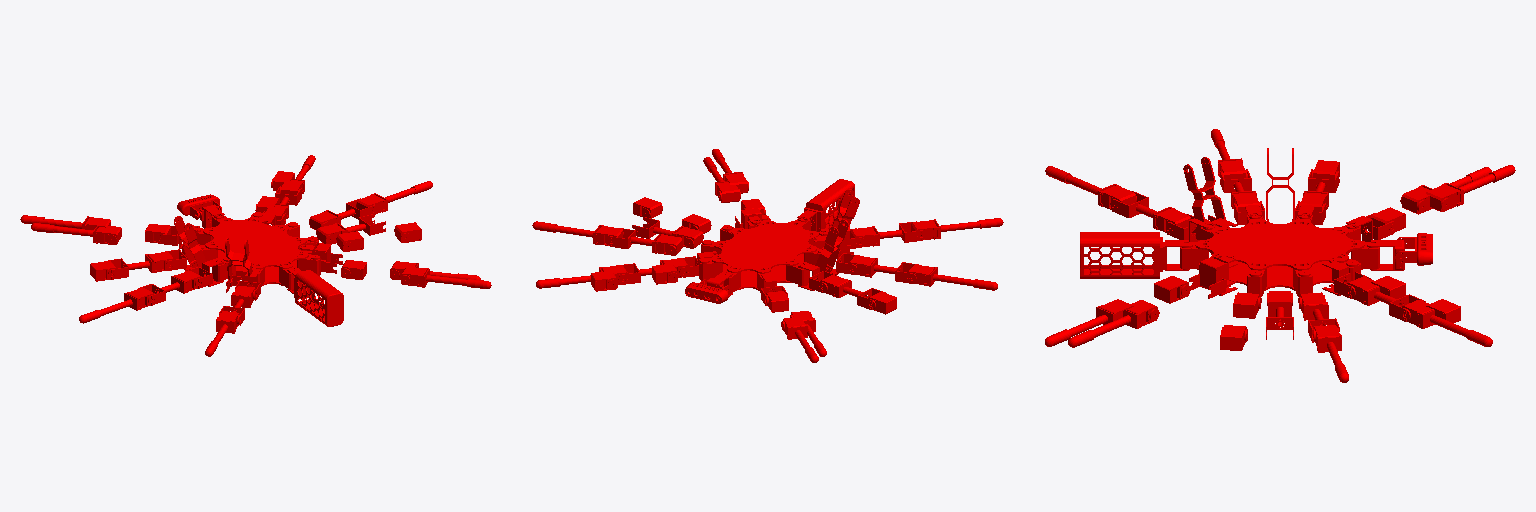
--- Facts derived from the render (not from the file) ---
The picture shows the robot from 3 angles, left to right: view 1: azimuth 30°, elevation 25°; view 2: azimuth 150°, elevation 25°; view 3: azimuth 270°, elevation 25°; orthographic projection.
Model nightmare_v2 with 54 links and 53 joints (27 continuous, 26 fixed), rooted at base_link, posed all joints at 0.
Links seen in each view (by area): view 1: base_link, Component62_1, leg_6_tibia_1, leg_2_femur_1, leg_5_femur_1, head_link_1, leg_1_tibia_1, leg_7_tibia_1, leg_4_femur_1, leg_6_femur_1; view 2: base_link, Component62_1, leg_2_femur_1, leg_5_femur_1, head_link_1, leg_2_tibia_1, leg_4_tibia_1, leg_1_femur_1, leg_4_femur_1, leg_7_tibia_1, leg_7_femur_1, leg_8_femur_1 (+3 smaller); view 3: base_link, Component62_1, leg_2_tibia_1, leg_4_tibia_1, leg_4_femur_1, leg_1_femur_1, leg_2_femur_1, leg_6_tibia_1, head_link_1, leg_3_coxa_1, leg_1_tibia_1, leg_1_motor__1__1 (+17 smaller).
Link boxes in pixels (x1,y1,x2,y2): base_link: (203,217,308,285); Component62_1: (287,267,343,326); leg_6_tibia_1: (31,223,121,244); leg_2_femur_1: (316,214,385,244); leg_5_femur_1: (174,216,205,274); head_link_1: (177,194,221,219); leg_1_tibia_1: (418,268,491,288); leg_7_tibia_1: (79,292,140,323); leg_4_femur_1: (225,238,252,286); leg_6_femur_1: (108,254,156,279); base_link: (712,220,818,290); Component62_1: (797,179,854,231); leg_2_femur_1: (632,217,703,248); leg_5_femur_1: (815,219,848,279); head_link_1: (685,279,730,303); leg_2_tibia_1: (703,157,740,202); leg_4_tibia_1: (536,265,627,288); leg_1_femur_1: (616,258,688,284); leg_4_femur_1: (832,189,859,246); leg_7_tibia_1: (924,267,997,290); leg_7_femur_1: (865,258,918,283); leg_8_femur_1: (872,221,922,246); base_link: (1195,219,1364,290); Component62_1: (1080,232,1188,278); leg_2_tibia_1: (1068,300,1159,347); leg_4_tibia_1: (1402,300,1492,346); leg_4_femur_1: (1183,157,1225,233); leg_1_femur_1: (1348,276,1425,321); leg_2_femur_1: (1266,291,1293,339); leg_6_tibia_1: (1400,167,1491,214); head_link_1: (1395,233,1432,265); leg_3_coxa_1: (1200,255,1235,290); leg_1_tibia_1: (1045,305,1117,346); leg_1_motor__1__1: (1154,276,1190,303).
Size in the robot's own frame: 0.9365 by 0.7516 by 0.1457 metres.
54 mesh visuals loaded from 54 distinct referenced files (11 binary STL, 43 ASCII STL).

The robot description file, URDF, robot "nightmare_v2":
<?xml version="1.0" ?>
<robot name="nightmare_v2">
<link name="base_link">
  <visual>
    <origin rpy="0 0 0" xyz="0 0 0"/>
    <geometry>
      <mesh filename="package://nightmare_description/meshes/base_link.stl" scale="0.001 0.001 0.001"/>
    </geometry>
    <material name="silver">
      <color rgba="1 0 0 1"/>
    </material>
  </visual>
  <collision>
    <origin rpy="0 0 0" xyz="0 0 0"/>
    <geometry>
      <mesh filename="package://nightmare_description/meshes/base_link.stl" scale="0.001 0.001 0.001"/>
    </geometry>
  </collision>
</link>
<link name="leg_8_motor_1">
  <inertial>
    <origin rpy="0 0 0" xyz="-0.020134 -0.005284999999999998 -0.017272"/>
    <mass value="0.315076"/>
    <inertia ixx="7e-05" ixy="-1.9e-05" ixz="0.000291" iyy="7e-05" iyz="-0.000292" izz="6.9e-05"/>
  </inertial>
  <visual>
    <origin rpy="0 0 0" xyz="0.039681 0.099177 -0.038"/>
    <geometry>
      <mesh filename="package://nightmare_description/meshes/leg_8_motor_1.stl" scale="0.001 0.001 0.001"/>
    </geometry>
    <material name="silver">
      <color rgba="1 0 0 1"/>
    </material>
  </visual>
  <collision>
    <origin rpy="0 0 0" xyz="0.039681 0.099177 -0.038"/>
    <geometry>
      <mesh filename="package://nightmare_description/meshes/leg_8_motor_1.stl" scale="0.001 0.001 0.001"/>
    </geometry>
  </collision>
</link>
<link name="leg_1_motor_1">
  <inertial>
    <origin rpy="0 0 0" xyz="0.020134000000000006 -0.005284999999999998 -0.017272"/>
    <mass value="0.315076"/>
    <inertia ixx="7e-05" ixy="1.9e-05" ixz="0.00111" iyy="7e-05" iyz="-0.00111" izz="6.9e-05"/>
  </inertial>
  <visual>
    <origin rpy="0 0 0" xyz="-0.04251 0.102005 -0.038"/>
    <geometry>
      <mesh filename="package://nightmare_description/meshes/leg_1_motor_1.stl" scale="0.001 0.001 0.001"/>
    </geometry>
    <material name="silver">
      <color rgba="1 0 0 1"/>
    </material>
  </visual>
  <collision>
    <origin rpy="0 0 0" xyz="-0.04251 0.102005 -0.038"/>
    <geometry>
      <mesh filename="package://nightmare_description/meshes/leg_1_motor_1.stl" scale="0.001 0.001 0.001"/>
    </geometry>
  </collision>
</link>
<link name="tail_motor_1">
  <inertial>
    <origin rpy="0 0 0" xyz="-0.0105 -0.017974000000000018 -0.017272"/>
    <mass value="0.315076"/>
    <inertia ixx="8.8e-05" ixy="-0.0" ixz="0.000893" iyy="5.1e-05" iyz="-0.000893" izz="6.9e-05"/>
  </inertial>
  <visual>
    <origin rpy="0 0 0" xyz="-0.01025 0.119 -0.038"/>
    <geometry>
      <mesh filename="package://nightmare_description/meshes/tail_motor_1.stl" scale="0.001 0.001 0.001"/>
    </geometry>
    <material name="silver">
      <color rgba="1 0 0 1"/>
    </material>
  </visual>
  <collision>
    <origin rpy="0 0 0" xyz="-0.01025 0.119 -0.038"/>
    <geometry>
      <mesh filename="package://nightmare_description/meshes/tail_motor_1.stl" scale="0.001 0.001 0.001"/>
    </geometry>
  </collision>
</link>
<link name="leg_2_motor_1">
  <inertial>
    <origin rpy="0 0 0" xyz="0.019524 0.007219000000000003 -0.017272"/>
    <mass value="0.315076"/>
    <inertia ixx="5.2e-05" ixy="6e-06" ixz="0.000876" iyy="8.7e-05" iyz="-0.000876" izz="6.9e-05"/>
  </inertial>
  <visual>
    <origin rpy="0 0 0" xyz="-0.077311 0.044552 -0.038"/>
    <geometry>
      <mesh filename="package://nightmare_description/meshes/leg_2_motor_1.stl" scale="0.001 0.001 0.001"/>
    </geometry>
    <material name="silver">
      <color rgba="1 0 0 1"/>
    </material>
  </visual>
  <collision>
    <origin rpy="0 0 0" xyz="-0.077311 0.044552 -0.038"/>
    <geometry>
      <mesh filename="package://nightmare_description/meshes/leg_2_motor_1.stl" scale="0.001 0.001 0.001"/>
    </geometry>
  </collision>
</link>
<link name="leg_3_motor_1">
  <inertial>
    <origin rpy="0 0 0" xyz="0.019524 -0.007219000000000003 -0.017272"/>
    <mass value="0.315076"/>
    <inertia ixx="5.2e-05" ixy="-6e-06" ixz="0.000389" iyy="8.7e-05" iyz="-0.000388" izz="6.9e-05"/>
  </inertial>
  <visual>
    <origin rpy="0 0 0" xyz="-0.077311 -0.044552 -0.038"/>
    <geometry>
      <mesh filename="package://nightmare_description/meshes/leg_3_motor_1.stl" scale="0.001 0.001 0.001"/>
    </geometry>
    <material name="silver">
      <color rgba="1 0 0 1"/>
    </material>
  </visual>
  <collision>
    <origin rpy="0 0 0" xyz="-0.077311 -0.044552 -0.038"/>
    <geometry>
      <mesh filename="package://nightmare_description/meshes/leg_3_motor_1.stl" scale="0.001 0.001 0.001"/>
    </geometry>
  </collision>
</link>
<link name="leg_4_motor_1">
  <inertial>
    <origin rpy="0 0 0" xyz="0.020134000000000006 0.005284999999999998 -0.017272"/>
    <mass value="0.315076"/>
    <inertia ixx="7e-05" ixy="-1.9e-05" ixz="-0.000291" iyy="7e-05" iyz="0.000292" izz="6.9e-05"/>
  </inertial>
  <visual>
    <origin rpy="0 0 0" xyz="-0.04251 -0.102005 -0.038"/>
    <geometry>
      <mesh filename="package://nightmare_description/meshes/leg_4_motor_1.stl" scale="0.001 0.001 0.001"/>
    </geometry>
    <material name="silver">
      <color rgba="1 0 0 1"/>
    </material>
  </visual>
  <collision>
    <origin rpy="0 0 0" xyz="-0.04251 -0.102005 -0.038"/>
    <geometry>
      <mesh filename="package://nightmare_description/meshes/leg_4_motor_1.stl" scale="0.001 0.001 0.001"/>
    </geometry>
  </collision>
</link>
<link name="head_motor_pan_1">
  <inertial>
    <origin rpy="0 0 0" xyz="0.0105 0.017974000000000018 -0.017272"/>
    <mass value="0.315076"/>
    <inertia ixx="8.8e-05" ixy="-0.0" ixz="-0.000893" iyy="5.1e-05" iyz="0.000893" izz="6.9e-05"/>
  </inertial>
  <visual>
    <origin rpy="0 0 0" xyz="0.01025 -0.119 -0.038"/>
    <geometry>
      <mesh filename="package://nightmare_description/meshes/head_motor_pan_1.stl" scale="0.001 0.001 0.001"/>
    </geometry>
    <material name="silver">
      <color rgba="1 0 0 1"/>
    </material>
  </visual>
  <collision>
    <origin rpy="0 0 0" xyz="0.01025 -0.119 -0.038"/>
    <geometry>
      <mesh filename="package://nightmare_description/meshes/head_motor_pan_1.stl" scale="0.001 0.001 0.001"/>
    </geometry>
  </collision>
</link>
<link name="leg_5_motor_1">
  <inertial>
    <origin rpy="0 0 0" xyz="-0.020134000000000006 0.005284999999999998 -0.017272"/>
    <mass value="0.315076"/>
    <inertia ixx="7e-05" ixy="1.9e-05" ixz="-0.00111" iyy="7e-05" iyz="0.00111" izz="6.9e-05"/>
  </inertial>
  <visual>
    <origin rpy="0 0 0" xyz="0.04251 -0.102005 -0.038"/>
    <geometry>
      <mesh filename="package://nightmare_description/meshes/leg_5_motor_1.stl" scale="0.001 0.001 0.001"/>
    </geometry>
    <material name="silver">
      <color rgba="1 0 0 1"/>
    </material>
  </visual>
  <collision>
    <origin rpy="0 0 0" xyz="0.04251 -0.102005 -0.038"/>
    <geometry>
      <mesh filename="package://nightmare_description/meshes/leg_5_motor_1.stl" scale="0.001 0.001 0.001"/>
    </geometry>
  </collision>
</link>
<link name="leg_6_motor_1">
  <inertial>
    <origin rpy="0 0 0" xyz="-0.019524 -0.007219000000000003 -0.017272"/>
    <mass value="0.315076"/>
    <inertia ixx="5.2e-05" ixy="6e-06" ixz="-0.000876" iyy="8.7e-05" iyz="0.000876" izz="6.9e-05"/>
  </inertial>
  <visual>
    <origin rpy="0 0 0" xyz="0.077311 -0.044552 -0.038"/>
    <geometry>
      <mesh filename="package://nightmare_description/meshes/leg_6_motor_1.stl" scale="0.001 0.001 0.001"/>
    </geometry>
    <material name="silver">
      <color rgba="1 0 0 1"/>
    </material>
  </visual>
  <collision>
    <origin rpy="0 0 0" xyz="0.077311 -0.044552 -0.038"/>
    <geometry>
      <mesh filename="package://nightmare_description/meshes/leg_6_motor_1.stl" scale="0.001 0.001 0.001"/>
    </geometry>
  </collision>
</link>
<link name="leg_7_motor_1">
  <inertial>
    <origin rpy="0 0 0" xyz="-0.019524 0.007219000000000003 -0.017272"/>
    <mass value="0.315076"/>
    <inertia ixx="5.2e-05" ixy="-6e-06" ixz="-0.000389" iyy="8.7e-05" iyz="0.000388" izz="6.9e-05"/>
  </inertial>
  <visual>
    <origin rpy="0 0 0" xyz="0.077311 0.044552 -0.038"/>
    <geometry>
      <mesh filename="package://nightmare_description/meshes/leg_7_motor_1.stl" scale="0.001 0.001 0.001"/>
    </geometry>
    <material name="silver">
      <color rgba="1 0 0 1"/>
    </material>
  </visual>
  <collision>
    <origin rpy="0 0 0" xyz="0.077311 0.044552 -0.038"/>
    <geometry>
      <mesh filename="package://nightmare_description/meshes/leg_7_motor_1.stl" scale="0.001 0.001 0.001"/>
    </geometry>
  </collision>
</link>
<link name="leg_1_coxa_1">
  <inertial>
    <origin rpy="0 0 0" xyz="0.024053000000000005 -0.024052000000000004 -0.0205"/>
    <mass value="0.073783"/>
    <inertia ixx="3.2e-05" ixy="3e-06" ixz="0.000356" iyy="3.2e-05" iyz="-0.000356" izz="3.5e-05"/>
  </inertial>
  <visual>
    <origin rpy="0 0 0" xyz="-0.071147 0.115794 -0.041"/>
    <geometry>
      <mesh filename="package://nightmare_description/meshes/leg_1_coxa_1.stl" scale="0.001 0.001 0.001"/>
    </geometry>
    <material name="silver">
      <color rgba="1 0 0 1"/>
    </material>
  </visual>
  <collision>
    <origin rpy="0 0 0" xyz="-0.071147 0.115794 -0.041"/>
    <geometry>
      <mesh filename="package://nightmare_description/meshes/leg_1_coxa_1.stl" scale="0.001 0.001 0.001"/>
    </geometry>
  </collision>
</link>
<link name="leg_8_coxa_1">
  <inertial>
    <origin rpy="0 0 0" xyz="-0.02405199999999999 -0.024053000000000005 -0.0205"/>
    <mass value="0.073783"/>
    <inertia ixx="3.2e-05" ixy="-3e-06" ixz="6.8e-05" iyy="3.2e-05" iyz="-6.8e-05" izz="3.5e-05"/>
  </inertial>
  <visual>
    <origin rpy="0 0 0" xyz="0.068319 0.112965 -0.041"/>
    <geometry>
      <mesh filename="package://nightmare_description/meshes/leg_8_coxa_1.stl" scale="0.001 0.001 0.001"/>
    </geometry>
    <material name="silver">
      <color rgba="1 0 0 1"/>
    </material>
  </visual>
  <collision>
    <origin rpy="0 0 0" xyz="0.068319 0.112965 -0.041"/>
    <geometry>
      <mesh filename="package://nightmare_description/meshes/leg_8_coxa_1.stl" scale="0.001 0.001 0.001"/>
    </geometry>
  </collision>
</link>
<link name="leg_7_coxa_1">
  <inertial>
    <origin rpy="0 0 0" xyz="-0.033498 -0.0059070000000000025 -0.0205"/>
    <mass value="0.073783"/>
    <inertia ixx="3e-05" ixy="-1e-06" ixz="-0.000146" iyy="3.5e-05" iyz="0.000146" izz="3.5e-05"/>
  </inertial>
  <visual>
    <origin rpy="0 0 0" xyz="0.108679 0.039421 -0.041"/>
    <geometry>
      <mesh filename="package://nightmare_description/meshes/leg_7_coxa_1.stl" scale="0.001 0.001 0.001"/>
    </geometry>
    <material name="silver">
      <color rgba="1 0 0 1"/>
    </material>
  </visual>
  <collision>
    <origin rpy="0 0 0" xyz="0.108679 0.039421 -0.041"/>
    <geometry>
      <mesh filename="package://nightmare_description/meshes/leg_7_coxa_1.stl" scale="0.001 0.001 0.001"/>
    </geometry>
  </collision>
</link>
<link name="leg_6_coxa_1">
  <inertial>
    <origin rpy="0 0 0" xyz="-0.033498 0.0059070000000000025 -0.0205"/>
    <mass value="0.073783"/>
    <inertia ixx="3e-05" ixy="1e-06" ixz="-0.000284" iyy="3.5e-05" iyz="0.000284" izz="3.5e-05"/>
  </inertial>
  <visual>
    <origin rpy="0 0 0" xyz="0.108679 -0.039421 -0.041"/>
    <geometry>
      <mesh filename="package://nightmare_description/meshes/leg_6_coxa_1.stl" scale="0.001 0.001 0.001"/>
    </geometry>
    <material name="silver">
      <color rgba="1 0 0 1"/>
    </material>
  </visual>
  <collision>
    <origin rpy="0 0 0" xyz="0.108679 -0.039421 -0.041"/>
    <geometry>
      <mesh filename="package://nightmare_description/meshes/leg_6_coxa_1.stl" scale="0.001 0.001 0.001"/>
    </geometry>
  </collision>
</link>
<link name="leg_5_coxa_1">
  <inertial>
    <origin rpy="0 0 0" xyz="-0.024053000000000005 0.024052000000000004 -0.0205"/>
    <mass value="0.073783"/>
    <inertia ixx="3.2e-05" ixy="3e-06" ixz="-0.000356" iyy="3.2e-05" iyz="0.000356" izz="3.5e-05"/>
  </inertial>
  <visual>
    <origin rpy="0 0 0" xyz="0.071147 -0.115794 -0.041"/>
    <geometry>
      <mesh filename="package://nightmare_description/meshes/leg_5_coxa_1.stl" scale="0.001 0.001 0.001"/>
    </geometry>
    <material name="silver">
      <color rgba="1 0 0 1"/>
    </material>
  </visual>
  <collision>
    <origin rpy="0 0 0" xyz="0.071147 -0.115794 -0.041"/>
    <geometry>
      <mesh filename="package://nightmare_description/meshes/leg_5_coxa_1.stl" scale="0.001 0.001 0.001"/>
    </geometry>
  </collision>
</link>
<link name="leg_4_coxa_1">
  <inertial>
    <origin rpy="0 0 0" xyz="0.024053000000000005 0.024052000000000004 -0.0205"/>
    <mass value="0.073783"/>
    <inertia ixx="3.2e-05" ixy="-3e-06" ixz="-6.8e-05" iyy="3.2e-05" iyz="6.8e-05" izz="3.5e-05"/>
  </inertial>
  <visual>
    <origin rpy="0 0 0" xyz="-0.071147 -0.115794 -0.041"/>
    <geometry>
      <mesh filename="package://nightmare_description/meshes/leg_4_coxa_1.stl" scale="0.001 0.001 0.001"/>
    </geometry>
    <material name="silver">
      <color rgba="1 0 0 1"/>
    </material>
  </visual>
  <collision>
    <origin rpy="0 0 0" xyz="-0.071147 -0.115794 -0.041"/>
    <geometry>
      <mesh filename="package://nightmare_description/meshes/leg_4_coxa_1.stl" scale="0.001 0.001 0.001"/>
    </geometry>
  </collision>
</link>
<link name="leg_3_coxa_1">
  <inertial>
    <origin rpy="0 0 0" xyz="0.033498 0.0059070000000000025 -0.0205"/>
    <mass value="0.073783"/>
    <inertia ixx="3e-05" ixy="-1e-06" ixz="0.000146" iyy="3.5e-05" iyz="-0.000146" izz="3.5e-05"/>
  </inertial>
  <visual>
    <origin rpy="0 0 0" xyz="-0.108679 -0.039421 -0.041"/>
    <geometry>
      <mesh filename="package://nightmare_description/meshes/leg_3_coxa_1.stl" scale="0.001 0.001 0.001"/>
    </geometry>
    <material name="silver">
      <color rgba="1 0 0 1"/>
    </material>
  </visual>
  <collision>
    <origin rpy="0 0 0" xyz="-0.108679 -0.039421 -0.041"/>
    <geometry>
      <mesh filename="package://nightmare_description/meshes/leg_3_coxa_1.stl" scale="0.001 0.001 0.001"/>
    </geometry>
  </collision>
</link>
<link name="leg_2_coxa_1">
  <inertial>
    <origin rpy="0 0 0" xyz="0.033498 -0.0059070000000000025 -0.0205"/>
    <mass value="0.073783"/>
    <inertia ixx="3e-05" ixy="1e-06" ixz="0.000284" iyy="3.5e-05" iyz="-0.000284" izz="3.5e-05"/>
  </inertial>
  <visual>
    <origin rpy="0 0 0" xyz="-0.108679 0.039421 -0.041"/>
    <geometry>
      <mesh filename="package://nightmare_description/meshes/leg_2_coxa_1.stl" scale="0.001 0.001 0.001"/>
    </geometry>
    <material name="silver">
      <color rgba="1 0 0 1"/>
    </material>
  </visual>
  <collision>
    <origin rpy="0 0 0" xyz="-0.108679 0.039421 -0.041"/>
    <geometry>
      <mesh filename="package://nightmare_description/meshes/leg_2_coxa_1.stl" scale="0.001 0.001 0.001"/>
    </geometry>
  </collision>
</link>
<link name="leg_8_motor__1__1">
  <inertial>
    <origin rpy="0 0 0" xyz="-0.023161 0.006152999999999992 0.0"/>
    <mass value="0.315076"/>
    <inertia ixx="6e-05" ixy="-9e-06" ixz="0.000286" iyy="6e-05" iyz="-0.000286" izz="8.8e-05"/>
  </inertial>
  <visual>
    <origin rpy="0 0 0" xyz="0.101928 0.175566 -0.0205"/>
    <geometry>
      <mesh filename="package://nightmare_description/meshes/leg_8_motor__1__1.stl" scale="0.001 0.001 0.001"/>
    </geometry>
    <material name="silver">
      <color rgba="1 0 0 1"/>
    </material>
  </visual>
  <collision>
    <origin rpy="0 0 0" xyz="0.101928 0.175566 -0.0205"/>
    <geometry>
      <mesh filename="package://nightmare_description/meshes/leg_8_motor__1__1.stl" scale="0.001 0.001 0.001"/>
    </geometry>
  </collision>
</link>
<link name="leg_7_motor__1__1">
  <inertial>
    <origin rpy="0 0 0" xyz="-0.015443000000000012 0.018324 0.0"/>
    <mass value="0.315076"/>
    <inertia ixx="5.2e-05" ixy="-3e-06" ixz="-0.000868" iyy="6.9e-05" iyz="0.000868" izz="8.8e-05"/>
  </inertial>
  <visual>
    <origin rpy="0 0 0" xyz="0.172116 0.071423 -0.0205"/>
    <geometry>
      <mesh filename="package://nightmare_description/meshes/leg_7_motor__1__1.stl" scale="0.001 0.001 0.001"/>
    </geometry>
    <material name="silver">
      <color rgba="1 0 0 1"/>
    </material>
  </visual>
  <collision>
    <origin rpy="0 0 0" xyz="0.172116 0.071423 -0.0205"/>
    <geometry>
      <mesh filename="package://nightmare_description/meshes/leg_7_motor__1__1.stl" scale="0.001 0.001 0.001"/>
    </geometry>
  </collision>
</link>
<link name="leg_6_motor__1__1">
  <inertial>
    <origin rpy="0 0 0" xyz="-0.008244000000000001 0.022500999999999997 0.0"/>
    <mass value="0.315076"/>
    <inertia ixx="5.2e-05" ixy="3e-06" ixz="-0.001557" iyy="6.8e-05" iyz="0.001557" izz="8.8e-05"/>
  </inertial>
  <visual>
    <origin rpy="0 0 0" xyz="0.179236 -0.031046 -0.0205"/>
    <geometry>
      <mesh filename="package://nightmare_description/meshes/leg_6_motor__1__1.stl" scale="0.001 0.001 0.001"/>
    </geometry>
    <material name="silver">
      <color rgba="1 0 0 1"/>
    </material>
  </visual>
  <collision>
    <origin rpy="0 0 0" xyz="0.179236 -0.031046 -0.0205"/>
    <geometry>
      <mesh filename="package://nightmare_description/meshes/leg_6_motor__1__1.stl" scale="0.001 0.001 0.001"/>
    </geometry>
  </collision>
</link>
<link name="leg_5_motor__1__1">
  <inertial>
    <origin rpy="0 0 0" xyz="0.0061530000000000196 0.023159999999999986 0.0"/>
    <mass value="0.315076"/>
    <inertia ixx="6e-05" ixy="9e-06" ixz="-0.001939" iyy="6e-05" iyz="0.001939" izz="8.9e-05"/>
  </inertial>
  <visual>
    <origin rpy="0 0 0" xyz="0.133748 -0.149403 -0.0205"/>
    <geometry>
      <mesh filename="package://nightmare_description/meshes/leg_5_motor__1__1.stl" scale="0.001 0.001 0.001"/>
    </geometry>
    <material name="silver">
      <color rgba="1 0 0 1"/>
    </material>
  </visual>
  <collision>
    <origin rpy="0 0 0" xyz="0.133748 -0.149403 -0.0205"/>
    <geometry>
      <mesh filename="package://nightmare_description/meshes/leg_5_motor__1__1.stl" scale="0.001 0.001 0.001"/>
    </geometry>
  </collision>
</link>
<link name="leg_1_motor__1__1">
  <inertial>
    <origin rpy="0 0 0" xyz="0.022837999999999983 0.005831000000000003 0.0"/>
    <mass value="0.315076"/>
    <inertia ixx="6e-05" ixy="9e-06" ixz="0.001939" iyy="6e-05" iyz="-0.001939" izz="8.9e-05"/>
  </inertial>
  <visual>
    <origin rpy="0 0 0" xyz="-0.104757 0.178394 -0.0205"/>
    <geometry>
      <mesh filename="package://nightmare_description/meshes/leg_1_motor__1__1.stl" scale="0.001 0.001 0.001"/>
    </geometry>
    <material name="silver">
      <color rgba="1 0 0 1"/>
    </material>
  </visual>
  <collision>
    <origin rpy="0 0 0" xyz="-0.104757 0.178394 -0.0205"/>
    <geometry>
      <mesh filename="package://nightmare_description/meshes/leg_1_motor__1__1.stl" scale="0.001 0.001 0.001"/>
    </geometry>
  </collision>
</link>
<link name="leg_2_motor__1__1">
  <inertial>
    <origin rpy="0 0 0" xyz="0.015364000000000017 0.017876000000000003 0.0"/>
    <mass value="0.315076"/>
    <inertia ixx="5.2e-05" ixy="3e-06" ixz="0.001557" iyy="6.8e-05" iyz="-0.001557" izz="8.8e-05"/>
  </inertial>
  <visual>
    <origin rpy="0 0 0" xyz="-0.172116 0.071423 -0.0205"/>
    <geometry>
      <mesh filename="package://nightmare_description/meshes/leg_2_motor__1__1.stl" scale="0.001 0.001 0.001"/>
    </geometry>
    <material name="silver">
      <color rgba="1 0 0 1"/>
    </material>
  </visual>
  <collision>
    <origin rpy="0 0 0" xyz="-0.172116 0.071423 -0.0205"/>
    <geometry>
      <mesh filename="package://nightmare_description/meshes/leg_2_motor__1__1.stl" scale="0.001 0.001 0.001"/>
    </geometry>
  </collision>
</link>
<link name="leg_3_motor__1__1">
  <inertial>
    <origin rpy="0 0 0" xyz="0.008322999999999997 0.022053 0.0"/>
    <mass value="0.315076"/>
    <inertia ixx="5.2e-05" ixy="-3e-06" ixz="0.000868" iyy="6.9e-05" iyz="-0.000868" izz="8.8e-05"/>
  </inertial>
  <visual>
    <origin rpy="0 0 0" xyz="-0.179236 -0.031046 -0.0205"/>
    <geometry>
      <mesh filename="package://nightmare_description/meshes/leg_3_motor__1__1.stl" scale="0.001 0.001 0.001"/>
    </geometry>
    <material name="silver">
      <color rgba="1 0 0 1"/>
    </material>
  </visual>
  <collision>
    <origin rpy="0 0 0" xyz="-0.179236 -0.031046 -0.0205"/>
    <geometry>
      <mesh filename="package://nightmare_description/meshes/leg_3_motor__1__1.stl" scale="0.001 0.001 0.001"/>
    </geometry>
  </collision>
</link>
<link name="leg_4_motor__1__1">
  <inertial>
    <origin rpy="0 0 0" xyz="-0.005831000000000003 0.022838999999999998 0.0"/>
    <mass value="0.315076"/>
    <inertia ixx="6e-05" ixy="-9e-06" ixz="-0.000286" iyy="6e-05" iyz="0.000286" izz="8.8e-05"/>
  </inertial>
  <visual>
    <origin rpy="0 0 0" xyz="-0.133748 -0.149403 -0.0205"/>
    <geometry>
      <mesh filename="package://nightmare_description/meshes/leg_4_motor__1__1.stl" scale="0.001 0.001 0.001"/>
    </geometry>
    <material name="silver">
      <color rgba="1 0 0 1"/>
    </material>
  </visual>
  <collision>
    <origin rpy="0 0 0" xyz="-0.133748 -0.149403 -0.0205"/>
    <geometry>
      <mesh filename="package://nightmare_description/meshes/leg_4_motor__1__1.stl" scale="0.001 0.001 0.001"/>
    </geometry>
  </collision>
</link>
<link name="leg_1_femur_1">
  <inertial>
    <origin rpy="0 0 0" xyz="0.017868000000000023 -0.04230300000000001 -0.010633"/>
    <mass value="0.077868"/>
    <inertia ixx="4.3e-05" ixy="2.4e-05" ixz="0.000618" iyy="4.5e-05" iyz="-0.000618" izz="8.3e-05"/>
  </inertial>
  <visual>
    <origin rpy="0 0 0" xyz="-0.154961 0.174859 -0.031"/>
    <geometry>
      <mesh filename="package://nightmare_description/meshes/leg_1_femur_1.stl" scale="0.001 0.001 0.001"/>
    </geometry>
    <material name="silver">
      <color rgba="1 0 0 1"/>
    </material>
  </visual>
  <collision>
    <origin rpy="0 0 0" xyz="-0.154961 0.174859 -0.031"/>
    <geometry>
      <mesh filename="package://nightmare_description/meshes/leg_1_femur_1.stl" scale="0.001 0.001 0.001"/>
    </geometry>
  </collision>
</link>
<link name="leg_2_femur_1">
  <inertial>
    <origin rpy="0 0 0" xyz="0.03889999999999999 -0.024403999999999995 -0.010633"/>
    <mass value="0.077868"/>
    <inertia ixx="2.1e-05" ixy="7e-06" ixz="0.000498" iyy="6.7e-05" iyz="-0.000498" izz="8.3e-05"/>
  </inertial>
  <visual>
    <origin rpy="0 0 0" xyz="-0.211214 0.039731 -0.031"/>
    <geometry>
      <mesh filename="package://nightmare_description/meshes/leg_2_femur_1.stl" scale="0.001 0.001 0.001"/>
    </geometry>
    <material name="silver">
      <color rgba="1 0 0 1"/>
    </material>
  </visual>
  <collision>
    <origin rpy="0 0 0" xyz="-0.211214 0.039731 -0.031"/>
    <geometry>
      <mesh filename="package://nightmare_description/meshes/leg_2_femur_1.stl" scale="0.001 0.001 0.001"/>
    </geometry>
  </collision>
</link>
<link name="leg_3_femur_1">
  <inertial>
    <origin rpy="0 0 0" xyz="0.04490199999999997 -0.009626999999999997 -0.010633"/>
    <mass value="0.077868"/>
    <inertia ixx="2.2e-05" ixy="-9e-06" ixz="0.000294" iyy="6.7e-05" iyz="-0.000294" izz="8.3e-05"/>
  </inertial>
  <visual>
    <origin rpy="0 0 0" xyz="-0.205136 -0.074199 -0.031"/>
    <geometry>
      <mesh filename="package://nightmare_description/meshes/leg_3_femur_1.stl" scale="0.001 0.001 0.001"/>
    </geometry>
    <material name="silver">
      <color rgba="1 0 0 1"/>
    </material>
  </visual>
  <collision>
    <origin rpy="0 0 0" xyz="-0.205136 -0.074199 -0.031"/>
    <geometry>
      <mesh filename="package://nightmare_description/meshes/leg_3_femur_1.stl" scale="0.001 0.001 0.001"/>
    </geometry>
  </collision>
</link>
<link name="leg_4_femur_1">
  <inertial>
    <origin rpy="0 0 0" xyz="0.04230300000000001 0.017867999999999995 -0.010633"/>
    <mass value="0.077868"/>
    <inertia ixx="4.5e-05" ixy="-2.4e-05" ixz="-7.1e-05" iyy="4.3e-05" iyz="7.1e-05" izz="8.3e-05"/>
  </inertial>
  <visual>
    <origin rpy="0 0 0" xyz="-0.130213 -0.199608 -0.031"/>
    <geometry>
      <mesh filename="package://nightmare_description/meshes/leg_4_femur_1.stl" scale="0.001 0.001 0.001"/>
    </geometry>
    <material name="silver">
      <color rgba="1 0 0 1"/>
    </material>
  </visual>
  <collision>
    <origin rpy="0 0 0" xyz="-0.130213 -0.199608 -0.031"/>
    <geometry>
      <mesh filename="package://nightmare_description/meshes/leg_4_femur_1.stl" scale="0.001 0.001 0.001"/>
    </geometry>
  </collision>
</link>
<link name="leg_8_femur_1">
  <inertial>
    <origin rpy="0 0 0" xyz="-0.04230400000000001 -0.017867999999999995 -0.010633"/>
    <mass value="0.077868"/>
    <inertia ixx="4.5e-05" ixy="-2.4e-05" ixz="7.1e-05" iyy="4.3e-05" iyz="-7.1e-05" izz="8.3e-05"/>
  </inertial>
  <visual>
    <origin rpy="0 0 0" xyz="0.127384 0.196779 -0.031"/>
    <geometry>
      <mesh filename="package://nightmare_description/meshes/leg_8_femur_1.stl" scale="0.001 0.001 0.001"/>
    </geometry>
    <material name="silver">
      <color rgba="1 0 0 1"/>
    </material>
  </visual>
  <collision>
    <origin rpy="0 0 0" xyz="0.127384 0.196779 -0.031"/>
    <geometry>
      <mesh filename="package://nightmare_description/meshes/leg_8_femur_1.stl" scale="0.001 0.001 0.001"/>
    </geometry>
  </collision>
</link>
<link name="leg_6_femur_1">
  <inertial>
    <origin rpy="0 0 0" xyz="-0.03889999999999999 0.024403999999999995 -0.010633"/>
    <mass value="0.077868"/>
    <inertia ixx="2.1e-05" ixy="7e-06" ixz="-0.000498" iyy="6.7e-05" iyz="0.000498" izz="8.3e-05"/>
  </inertial>
  <visual>
    <origin rpy="0 0 0" xyz="0.211214 -0.039731 -0.031"/>
    <geometry>
      <mesh filename="package://nightmare_description/meshes/leg_6_femur_1.stl" scale="0.001 0.001 0.001"/>
    </geometry>
    <material name="silver">
      <color rgba="1 0 0 1"/>
    </material>
  </visual>
  <collision>
    <origin rpy="0 0 0" xyz="0.211214 -0.039731 -0.031"/>
    <geometry>
      <mesh filename="package://nightmare_description/meshes/leg_6_femur_1.stl" scale="0.001 0.001 0.001"/>
    </geometry>
  </collision>
</link>
<link name="leg_5_femur_1">
  <inertial>
    <origin rpy="0 0 0" xyz="-0.017868000000000023 0.04230300000000001 -0.010633"/>
    <mass value="0.077868"/>
    <inertia ixx="4.3e-05" ixy="2.4e-05" ixz="-0.000618" iyy="4.5e-05" iyz="0.000618" izz="8.3e-05"/>
  </inertial>
  <visual>
    <origin rpy="0 0 0" xyz="0.154961 -0.174859 -0.031"/>
    <geometry>
      <mesh filename="package://nightmare_description/meshes/leg_5_femur_1.stl" scale="0.001 0.001 0.001"/>
    </geometry>
    <material name="silver">
      <color rgba="1 0 0 1"/>
    </material>
  </visual>
  <collision>
    <origin rpy="0 0 0" xyz="0.154961 -0.174859 -0.031"/>
    <geometry>
      <mesh filename="package://nightmare_description/meshes/leg_5_femur_1.stl" scale="0.001 0.001 0.001"/>
    </geometry>
  </collision>
</link>
<link name="leg_1_motor__2__1">
  <inertial>
    <origin rpy="0 0 0" xyz="0.022838999999999998 0.005830999999999975 0.0"/>
    <mass value="0.315076"/>
    <inertia ixx="6e-05" ixy="9e-06" ixz="0.003044" iyy="6e-05" iyz="-0.003044" izz="8.8e-05"/>
  </inertial>
  <visual>
    <origin rpy="0 0 0" xyz="-0.192724 0.265655 -0.020321"/>
    <geometry>
      <mesh filename="package://nightmare_description/meshes/leg_1_motor__2__1.stl" scale="0.001 0.001 0.001"/>
    </geometry>
    <material name="silver">
      <color rgba="1 0 0 1"/>
    </material>
  </visual>
  <collision>
    <origin rpy="0 0 0" xyz="-0.192724 0.265655 -0.020321"/>
    <geometry>
      <mesh filename="package://nightmare_description/meshes/leg_1_motor__2__1.stl" scale="0.001 0.001 0.001"/>
    </geometry>
  </collision>
</link>
<link name="leg_2_motor__2__1">
  <inertial>
    <origin rpy="0 0 0" xyz="0.015363000000000016 0.017876000000000003 0.0"/>
    <mass value="0.315076"/>
    <inertia ixx="5.2e-05" ixy="3e-06" ixz="0.00246" iyy="6.8e-05" iyz="-0.00246" izz="8.8e-05"/>
  </inertial>
  <visual>
    <origin rpy="0 0 0" xyz="-0.294226 0.092447 -0.020321"/>
    <geometry>
      <mesh filename="package://nightmare_description/meshes/leg_2_motor__2__1.stl" scale="0.001 0.001 0.001"/>
    </geometry>
    <material name="silver">
      <color rgba="1 0 0 1"/>
    </material>
  </visual>
  <collision>
    <origin rpy="0 0 0" xyz="-0.294226 0.092447 -0.020321"/>
    <geometry>
      <mesh filename="package://nightmare_description/meshes/leg_2_motor__2__1.stl" scale="0.001 0.001 0.001"/>
    </geometry>
  </collision>
</link>
<link name="leg_3_motor__2__1">
  <inertial>
    <origin rpy="0 0 0" xyz="0.008323999999999998 0.022052999999999996 0.0"/>
    <mass value="0.315076"/>
    <inertia ixx="5.2e-05" ixy="-3e-06" ixz="0.001501" iyy="6.8e-05" iyz="-0.001501" izz="8.8e-05"/>
  </inertial>
  <visual>
    <origin rpy="0 0 0" xyz="-0.301171 -0.053054 -0.020321"/>
    <geometry>
      <mesh filename="package://nightmare_description/meshes/leg_3_motor__2__1.stl" scale="0.001 0.001 0.001"/>
    </geometry>
    <material name="silver">
      <color rgba="1 0 0 1"/>
    </material>
  </visual>
  <collision>
    <origin rpy="0 0 0" xyz="-0.301171 -0.053054 -0.020321"/>
    <geometry>
      <mesh filename="package://nightmare_description/meshes/leg_3_motor__2__1.stl" scale="0.001 0.001 0.001"/>
    </geometry>
  </collision>
</link>
<link name="leg_4_motor__2__1">
  <inertial>
    <origin rpy="0 0 0" xyz="-0.005831000000000003 0.022838000000000025 0.0"/>
    <mass value="0.315076"/>
    <inertia ixx="6e-05" ixy="-9e-06" ixz="-0.000288" iyy="6e-05" iyz="0.000288" izz="8.9e-05"/>
  </inertial>
  <visual>
    <origin rpy="0 0 0" xyz="-0.221008 -0.237371 -0.020321"/>
    <geometry>
      <mesh filename="package://nightmare_description/meshes/leg_4_motor__2__1.stl" scale="0.001 0.001 0.001"/>
    </geometry>
    <material name="silver">
      <color rgba="1 0 0 1"/>
    </material>
  </visual>
  <collision>
    <origin rpy="0 0 0" xyz="-0.221008 -0.237371 -0.020321"/>
    <geometry>
      <mesh filename="package://nightmare_description/meshes/leg_4_motor__2__1.stl" scale="0.001 0.001 0.001"/>
    </geometry>
  </collision>
</link>
<link name="leg_5_motor__2__1">
  <inertial>
    <origin rpy="0 0 0" xyz="0.006152999999999992 0.023159999999999986 0.0"/>
    <mass value="0.315076"/>
    <inertia ixx="6e-05" ixy="9e-06" ixz="-0.003044" iyy="6e-05" iyz="0.003044" izz="8.8e-05"/>
  </inertial>
  <visual>
    <origin rpy="0 0 0" xyz="0.221716 -0.236664 -0.020321"/>
    <geometry>
      <mesh filename="package://nightmare_description/meshes/leg_5_motor__2__1.stl" scale="0.001 0.001 0.001"/>
    </geometry>
    <material name="silver">
      <color rgba="1 0 0 1"/>
    </material>
  </visual>
  <collision>
    <origin rpy="0 0 0" xyz="0.221716 -0.236664 -0.020321"/>
    <geometry>
      <mesh filename="package://nightmare_description/meshes/leg_5_motor__2__1.stl" scale="0.001 0.001 0.001"/>
    </geometry>
  </collision>
</link>
<link name="leg_6_motor__2__1">
  <inertial>
    <origin rpy="0 0 0" xyz="-0.008244000000000029 0.022501 0.0"/>
    <mass value="0.315076"/>
    <inertia ixx="5.2e-05" ixy="3e-06" ixz="-0.00246" iyy="6.8e-05" iyz="0.00246" izz="8.8e-05"/>
  </inertial>
  <visual>
    <origin rpy="0 0 0" xyz="0.301345 -0.05207 -0.020321"/>
    <geometry>
      <mesh filename="package://nightmare_description/meshes/leg_6_motor__2__1.stl" scale="0.001 0.001 0.001"/>
    </geometry>
    <material name="silver">
      <color rgba="1 0 0 1"/>
    </material>
  </visual>
  <collision>
    <origin rpy="0 0 0" xyz="0.301345 -0.05207 -0.020321"/>
    <geometry>
      <mesh filename="package://nightmare_description/meshes/leg_6_motor__2__1.stl" scale="0.001 0.001 0.001"/>
    </geometry>
  </collision>
</link>
<link name="leg_7_motor__2__1">
  <inertial>
    <origin rpy="0 0 0" xyz="-0.01544300000000004 0.018325000000000008 0.0"/>
    <mass value="0.315076"/>
    <inertia ixx="5.2e-05" ixy="-3e-06" ixz="-0.001501" iyy="6.8e-05" iyz="0.001501" izz="8.8e-05"/>
  </inertial>
  <visual>
    <origin rpy="0 0 0" xyz="0.294052 0.093432 -0.020321"/>
    <geometry>
      <mesh filename="package://nightmare_description/meshes/leg_7_motor__2__1.stl" scale="0.001 0.001 0.001"/>
    </geometry>
    <material name="silver">
      <color rgba="1 0 0 1"/>
    </material>
  </visual>
  <collision>
    <origin rpy="0 0 0" xyz="0.294052 0.093432 -0.020321"/>
    <geometry>
      <mesh filename="package://nightmare_description/meshes/leg_7_motor__2__1.stl" scale="0.001 0.001 0.001"/>
    </geometry>
  </collision>
</link>
<link name="leg_8_motor__2__1">
  <inertial>
    <origin rpy="0 0 0" xyz="-0.023160000000000014 0.006152999999999964 0.0"/>
    <mass value="0.315076"/>
    <inertia ixx="6e-05" ixy="-9e-06" ixz="0.000288" iyy="6e-05" iyz="-0.000288" izz="8.8e-05"/>
  </inertial>
  <visual>
    <origin rpy="0 0 0" xyz="0.189189 0.263534 -0.020321"/>
    <geometry>
      <mesh filename="package://nightmare_description/meshes/leg_8_motor__2__1.stl" scale="0.001 0.001 0.001"/>
    </geometry>
    <material name="silver">
      <color rgba="1 0 0 1"/>
    </material>
  </visual>
  <collision>
    <origin rpy="0 0 0" xyz="0.189189 0.263534 -0.020321"/>
    <geometry>
      <mesh filename="package://nightmare_description/meshes/leg_8_motor__2__1.stl" scale="0.001 0.001 0.001"/>
    </geometry>
  </collision>
</link>
<link name="leg_8_tibia_1">
  <inertial>
    <origin rpy="0 0 0" xyz="-0.06303600000000001 -0.03870700000000005 -0.010864000000000002"/>
    <mass value="0.106884"/>
    <inertia ixx="0.000121" ixy="-0.000111" ixz="9.7e-05" iyy="0.000118" iyz="-9.8e-05" izz="0.000233"/>
  </inertial>
  <visual>
    <origin rpy="0 0 0" xyz="0.214645 0.284747 -0.030821"/>
    <geometry>
      <mesh filename="package://nightmare_description/meshes/leg_8_tibia_1.stl" scale="0.001 0.001 0.001"/>
    </geometry>
    <material name="silver">
      <color rgba="1 0 0 1"/>
    </material>
  </visual>
  <collision>
    <origin rpy="0 0 0" xyz="0.214645 0.284747 -0.030821"/>
    <geometry>
      <mesh filename="package://nightmare_description/meshes/leg_8_tibia_1.stl" scale="0.001 0.001 0.001"/>
    </geometry>
  </collision>
</link>
<link name="leg_6_tibia_1">
  <inertial>
    <origin rpy="0 0 0" xyz="-0.067863 0.029435000000000003 -0.010864000000000002"/>
    <mass value="0.106884"/>
    <inertia ixx="1.5e-05" ixy="3.6e-05" ixz="-0.001048" iyy="0.000224" iyz="0.001048" izz="0.000233"/>
  </inertial>
  <visual>
    <origin rpy="0 0 0" xyz="0.333323 -0.060754 -0.030821"/>
    <geometry>
      <mesh filename="package://nightmare_description/meshes/leg_6_tibia_1.stl" scale="0.001 0.001 0.001"/>
    </geometry>
    <material name="silver">
      <color rgba="1 0 0 1"/>
    </material>
  </visual>
  <collision>
    <origin rpy="0 0 0" xyz="0.333323 -0.060754 -0.030821"/>
    <geometry>
      <mesh filename="package://nightmare_description/meshes/leg_6_tibia_1.stl" scale="0.001 0.001 0.001"/>
    </geometry>
  </collision>
</link>
<link name="leg_5_tibia_1">
  <inertial>
    <origin rpy="0 0 0" xyz="-0.03870699999999999 0.06303700000000001 -0.010864000000000002"/>
    <mass value="0.106884"/>
    <inertia ixx="0.000118" ixy="0.000111" ixz="-0.001294" iyy="0.000121" iyz="0.001294" izz="0.000233"/>
  </inertial>
  <visual>
    <origin rpy="0 0 0" xyz="0.242929 -0.262119 -0.030821"/>
    <geometry>
      <mesh filename="package://nightmare_description/meshes/leg_5_tibia_1.stl" scale="0.001 0.001 0.001"/>
    </geometry>
    <material name="silver">
      <color rgba="1 0 0 1"/>
    </material>
  </visual>
  <collision>
    <origin rpy="0 0 0" xyz="0.242929 -0.262119 -0.030821"/>
    <geometry>
      <mesh filename="package://nightmare_description/meshes/leg_5_tibia_1.stl" scale="0.001 0.001 0.001"/>
    </geometry>
  </collision>
</link>
<link name="leg_4_tibia_1">
  <inertial>
    <origin rpy="0 0 0" xyz="0.06303600000000001 0.038707999999999965 -0.010864000000000002"/>
    <mass value="0.106884"/>
    <inertia ixx="0.000121" ixy="-0.000111" ixz="-9.7e-05" iyy="0.000118" iyz="9.8e-05" izz="0.000233"/>
  </inertial>
  <visual>
    <origin rpy="0 0 0" xyz="-0.217473 -0.287575 -0.030821"/>
    <geometry>
      <mesh filename="package://nightmare_description/meshes/leg_4_tibia_1.stl" scale="0.001 0.001 0.001"/>
    </geometry>
    <material name="silver">
      <color rgba="1 0 0 1"/>
    </material>
  </visual>
  <collision>
    <origin rpy="0 0 0" xyz="-0.217473 -0.287575 -0.030821"/>
    <geometry>
      <mesh filename="package://nightmare_description/meshes/leg_4_tibia_1.stl" scale="0.001 0.001 0.001"/>
    </geometry>
  </collision>
</link>
<link name="leg_3_tibia_1">
  <inertial>
    <origin rpy="0 0 0" xyz="0.07383800000000001 -0.0044490000000000085 -0.010864000000000002"/>
    <mass value="0.106884"/>
    <inertia ixx="1.6e-05" ixy="-3.9e-05" ixz="0.00066" iyy="0.000223" iyz="-0.000659" izz="0.000233"/>
  </inertial>
  <visual>
    <origin rpy="0 0 0" xyz="-0.327072 -0.096208 -0.030821"/>
    <geometry>
      <mesh filename="package://nightmare_description/meshes/leg_3_tibia_1.stl" scale="0.001 0.001 0.001"/>
    </geometry>
    <material name="silver">
      <color rgba="1 0 0 1"/>
    </material>
  </visual>
  <collision>
    <origin rpy="0 0 0" xyz="-0.327072 -0.096208 -0.030821"/>
    <geometry>
      <mesh filename="package://nightmare_description/meshes/leg_3_tibia_1.stl" scale="0.001 0.001 0.001"/>
    </geometry>
  </collision>
</link>
<link name="leg_2_tibia_1">
  <inertial>
    <origin rpy="0 0 0" xyz="0.067863 -0.029435000000000003 -0.010864000000000002"/>
    <mass value="0.106884"/>
    <inertia ixx="1.5e-05" ixy="3.6e-05" ixz="0.001048" iyy="0.000224" iyz="-0.001048" izz="0.000233"/>
  </inertial>
  <visual>
    <origin rpy="0 0 0" xyz="-0.333323 0.060754 -0.030821"/>
    <geometry>
      <mesh filename="package://nightmare_description/meshes/leg_2_tibia_1.stl" scale="0.001 0.001 0.001"/>
    </geometry>
    <material name="silver">
      <color rgba="1 0 0 1"/>
    </material>
  </visual>
  <collision>
    <origin rpy="0 0 0" xyz="-0.333323 0.060754 -0.030821"/>
    <geometry>
      <mesh filename="package://nightmare_description/meshes/leg_2_tibia_1.stl" scale="0.001 0.001 0.001"/>
    </geometry>
  </collision>
</link>
<link name="leg_1_tibia_1">
  <inertial>
    <origin rpy="0 0 0" xyz="0.03870699999999999 -0.06303700000000001 -0.010864000000000002"/>
    <mass value="0.106884"/>
    <inertia ixx="0.000118" ixy="0.000111" ixz="0.001294" iyy="0.000121" iyz="-0.001294" izz="0.000233"/>
  </inertial>
  <visual>
    <origin rpy="0 0 0" xyz="-0.242929 0.262119 -0.030821"/>
    <geometry>
      <mesh filename="package://nightmare_description/meshes/leg_1_tibia_1.stl" scale="0.001 0.001 0.001"/>
    </geometry>
    <material name="silver">
      <color rgba="1 0 0 1"/>
    </material>
  </visual>
  <collision>
    <origin rpy="0 0 0" xyz="-0.242929 0.262119 -0.030821"/>
    <geometry>
      <mesh filename="package://nightmare_description/meshes/leg_1_tibia_1.stl" scale="0.001 0.001 0.001"/>
    </geometry>
  </collision>
</link>
<link name="Component62_1">
  <inertial>
    <origin rpy="0 0 0" xyz="6.400000000000001e-05 -0.083482 -0.020242000000000003"/>
    <mass value="0.502392"/>
    <inertia ixx="0.001514" ixy="0.0" ixz="0.002414" iyy="0.000379" iyz="-0.002422" izz="0.001285"/>
  </inertial>
  <visual>
    <origin rpy="0 0 0" xyz="0.00025 0.149 -0.041"/>
    <geometry>
      <mesh filename="package://nightmare_description/meshes/Component62_1.stl" scale="0.001 0.001 0.001"/>
    </geometry>
    <material name="silver">
      <color rgba="1 0 0 1"/>
    </material>
  </visual>
  <collision>
    <origin rpy="0 0 0" xyz="0.00025 0.149 -0.041"/>
    <geometry>
      <mesh filename="package://nightmare_description/meshes/Component62_1.stl" scale="0.001 0.001 0.001"/>
    </geometry>
  </collision>
</link>
<link name="head_neck_1">
  <inertial>
    <origin rpy="0 0 0" xyz="0.001783 0.03881100000000001 -0.019412000000000002"/>
    <mass value="0.21541"/>
    <inertia ixx="6.1e-05" ixy="-1e-06" ixz="-0.000865" iyy="6e-05" iyz="0.000864" izz="4.1e-05"/>
  </inertial>
  <visual>
    <origin rpy="0 0 0" xyz="-0.00025 -0.149 -0.041"/>
    <geometry>
      <mesh filename="package://nightmare_description/meshes/head_neck_1.stl" scale="0.001 0.001 0.001"/>
    </geometry>
    <material name="silver">
      <color rgba="1 0 0 1"/>
    </material>
  </visual>
  <collision>
    <origin rpy="0 0 0" xyz="-0.00025 -0.149 -0.041"/>
    <geometry>
      <mesh filename="package://nightmare_description/meshes/head_neck_1.stl" scale="0.001 0.001 0.001"/>
    </geometry>
  </collision>
</link>
<link name="leg_7_femur_1">
  <inertial>
    <origin rpy="0 0 0" xyz="-0.04490199999999997 0.009626999999999997 -0.010633"/>
    <mass value="0.077868"/>
    <inertia ixx="2.2e-05" ixy="-9e-06" ixz="-0.000294" iyy="6.7e-05" iyz="0.000294" izz="8.3e-05"/>
  </inertial>
  <visual>
    <origin rpy="0 0 0" xyz="0.205136 0.074199 -0.031"/>
    <geometry>
      <mesh filename="package://nightmare_description/meshes/leg_7_femur_1.stl" scale="0.001 0.001 0.001"/>
    </geometry>
    <material name="silver">
      <color rgba="1 0 0 1"/>
    </material>
  </visual>
  <collision>
    <origin rpy="0 0 0" xyz="0.205136 0.074199 -0.031"/>
    <geometry>
      <mesh filename="package://nightmare_description/meshes/leg_7_femur_1.stl" scale="0.001 0.001 0.001"/>
    </geometry>
  </collision>
</link>
<link name="leg_7_tibia_1">
  <inertial>
    <origin rpy="0 0 0" xyz="-0.07383899999999999 0.0044490000000000085 -0.010864000000000002"/>
    <mass value="0.106884"/>
    <inertia ixx="1.6e-05" ixy="-3.9e-05" ixz="-0.00066" iyy="0.000223" iyz="0.000659" izz="0.000233"/>
  </inertial>
  <visual>
    <origin rpy="0 0 0" xyz="0.327071 0.096208 -0.030821"/>
    <geometry>
      <mesh filename="package://nightmare_description/meshes/leg_7_tibia_1.stl" scale="0.001 0.001 0.001"/>
    </geometry>
    <material name="silver">
      <color rgba="1 0 0 1"/>
    </material>
  </visual>
  <collision>
    <origin rpy="0 0 0" xyz="0.327071 0.096208 -0.030821"/>
    <geometry>
      <mesh filename="package://nightmare_description/meshes/leg_7_tibia_1.stl" scale="0.001 0.001 0.001"/>
    </geometry>
  </collision>
</link>
<link name="head_link_1">
  <inertial>
    <origin rpy="0 0 0" xyz="0.025274 0.03397799999999998 0.0013080000000000001"/>
    <mass value="0.386958"/>
    <inertia ixx="5.3e-05" ixy="-1e-06" ixz="-0.00279" iyy="0.000245" iyz="0.002789" izz="0.000265"/>
  </inertial>
  <visual>
    <origin rpy="0 0 0" xyz="0.02475 -0.194 -0.030378"/>
    <geometry>
      <mesh filename="package://nightmare_description/meshes/head_link_1.stl" scale="0.001 0.001 0.001"/>
    </geometry>
    <material name="silver">
      <color rgba="1 0 0 1"/>
    </material>
  </visual>
  <collision>
    <origin rpy="0 0 0" xyz="0.02475 -0.194 -0.030378"/>
    <geometry>
      <mesh filename="package://nightmare_description/meshes/head_link_1.stl" scale="0.001 0.001 0.001"/>
    </geometry>
  </collision>
</link>
<joint name="Rigid14" type="fixed">
  <origin rpy="0 0 0" xyz="-0.039681 -0.099177 0.038"/>
  <parent link="base_link"/>
  <child link="leg_8_motor_1"/>
</joint>
<transmission name="Rigid14_tran">
  <type>transmission_interface/SimpleTransmission</type>
  <joint name="Rigid14">
    <hardwareInterface>PositionJointInterface</hardwareInterface>
  </joint>
  <actuator name="Rigid14_actr">
    <hardwareInterface>PositionJointInterface</hardwareInterface>
    <mechanicalReduction>1</mechanicalReduction>
  </actuator>
</transmission>
<joint name="Rigid15" type="fixed">
  <origin rpy="0 0 0" xyz="0.04251 -0.102005 0.038"/>
  <parent link="base_link"/>
  <child link="leg_1_motor_1"/>
</joint>
<transmission name="Rigid15_tran">
  <type>transmission_interface/SimpleTransmission</type>
  <joint name="Rigid15">
    <hardwareInterface>PositionJointInterface</hardwareInterface>
  </joint>
  <actuator name="Rigid15_actr">
    <hardwareInterface>PositionJointInterface</hardwareInterface>
    <mechanicalReduction>1</mechanicalReduction>
  </actuator>
</transmission>
<joint name="Rigid16" type="fixed">
  <origin rpy="0 0 0" xyz="0.01025 -0.119 0.038"/>
  <parent link="base_link"/>
  <child link="tail_motor_1"/>
</joint>
<transmission name="Rigid16_tran">
  <type>transmission_interface/SimpleTransmission</type>
  <joint name="Rigid16">
    <hardwareInterface>PositionJointInterface</hardwareInterface>
  </joint>
  <actuator name="Rigid16_actr">
    <hardwareInterface>PositionJointInterface</hardwareInterface>
    <mechanicalReduction>1</mechanicalReduction>
  </actuator>
</transmission>
<joint name="Rigid17" type="fixed">
  <origin rpy="0 0 0" xyz="0.077311 -0.044552 0.038"/>
  <parent link="base_link"/>
  <child link="leg_2_motor_1"/>
</joint>
<transmission name="Rigid17_tran">
  <type>transmission_interface/SimpleTransmission</type>
  <joint name="Rigid17">
    <hardwareInterface>PositionJointInterface</hardwareInterface>
  </joint>
  <actuator name="Rigid17_actr">
    <hardwareInterface>PositionJointInterface</hardwareInterface>
    <mechanicalReduction>1</mechanicalReduction>
  </actuator>
</transmission>
<joint name="Rigid18" type="fixed">
  <origin rpy="0 0 0" xyz="0.077311 0.044552 0.038"/>
  <parent link="base_link"/>
  <child link="leg_3_motor_1"/>
</joint>
<transmission name="Rigid18_tran">
  <type>transmission_interface/SimpleTransmission</type>
  <joint name="Rigid18">
    <hardwareInterface>PositionJointInterface</hardwareInterface>
  </joint>
  <actuator name="Rigid18_actr">
    <hardwareInterface>PositionJointInterface</hardwareInterface>
    <mechanicalReduction>1</mechanicalReduction>
  </actuator>
</transmission>
<joint name="Rigid19" type="fixed">
  <origin rpy="0 0 0" xyz="0.04251 0.102005 0.038"/>
  <parent link="base_link"/>
  <child link="leg_4_motor_1"/>
</joint>
<transmission name="Rigid19_tran">
  <type>transmission_interface/SimpleTransmission</type>
  <joint name="Rigid19">
    <hardwareInterface>PositionJointInterface</hardwareInterface>
  </joint>
  <actuator name="Rigid19_actr">
    <hardwareInterface>PositionJointInterface</hardwareInterface>
    <mechanicalReduction>1</mechanicalReduction>
  </actuator>
</transmission>
<joint name="Rigid20" type="fixed">
  <origin rpy="0 0 0" xyz="-0.01025 0.119 0.038"/>
  <parent link="base_link"/>
  <child link="head_motor_pan_1"/>
</joint>
<transmission name="Rigid20_tran">
  <type>transmission_interface/SimpleTransmission</type>
  <joint name="Rigid20">
    <hardwareInterface>PositionJointInterface</hardwareInterface>
  </joint>
  <actuator name="Rigid20_actr">
    <hardwareInterface>PositionJointInterface</hardwareInterface>
    <mechanicalReduction>1</mechanicalReduction>
  </actuator>
</transmission>
<joint name="Rigid21" type="fixed">
  <origin rpy="0 0 0" xyz="-0.04251 0.102005 0.038"/>
  <parent link="base_link"/>
  <child link="leg_5_motor_1"/>
</joint>
<transmission name="Rigid21_tran">
  <type>transmission_interface/SimpleTransmission</type>
  <joint name="Rigid21">
    <hardwareInterface>PositionJointInterface</hardwareInterface>
  </joint>
  <actuator name="Rigid21_actr">
    <hardwareInterface>PositionJointInterface</hardwareInterface>
    <mechanicalReduction>1</mechanicalReduction>
  </actuator>
</transmission>
<joint name="Rigid22" type="fixed">
  <origin rpy="0 0 0" xyz="-0.077311 0.044552 0.038"/>
  <parent link="base_link"/>
  <child link="leg_6_motor_1"/>
</joint>
<transmission name="Rigid22_tran">
  <type>transmission_interface/SimpleTransmission</type>
  <joint name="Rigid22">
    <hardwareInterface>PositionJointInterface</hardwareInterface>
  </joint>
  <actuator name="Rigid22_actr">
    <hardwareInterface>PositionJointInterface</hardwareInterface>
    <mechanicalReduction>1</mechanicalReduction>
  </actuator>
</transmission>
<joint name="Rigid23" type="fixed">
  <origin rpy="0 0 0" xyz="-0.077311 -0.044552 0.038"/>
  <parent link="base_link"/>
  <child link="leg_7_motor_1"/>
</joint>
<transmission name="Rigid23_tran">
  <type>transmission_interface/SimpleTransmission</type>
  <joint name="Rigid23">
    <hardwareInterface>PositionJointInterface</hardwareInterface>
  </joint>
  <actuator name="Rigid23_actr">
    <hardwareInterface>PositionJointInterface</hardwareInterface>
    <mechanicalReduction>1</mechanicalReduction>
  </actuator>
</transmission>
<joint name="Rev24" type="continuous">
  <origin rpy="0 0 0" xyz="0.028637 -0.013789 0.003"/>
  <parent link="leg_1_motor_1"/>
  <child link="leg_1_coxa_1"/>
  <axis xyz="-0.0 0.0 -0.01"/>
</joint>
<transmission name="Rev24_tran">
  <type>transmission_interface/SimpleTransmission</type>
  <joint name="Rev24">
    <hardwareInterface>PositionJointInterface</hardwareInterface>
  </joint>
  <actuator name="Rev24_actr">
    <hardwareInterface>PositionJointInterface</hardwareInterface>
    <mechanicalReduction>1</mechanicalReduction>
  </actuator>
</transmission>
<joint name="Rev25" type="continuous">
  <origin rpy="0 0 0" xyz="-0.028638 -0.013788 0.003"/>
  <parent link="leg_8_motor_1"/>
  <child link="leg_8_coxa_1"/>
  <axis xyz="-0.0 0.0 -0.01"/>
</joint>
<transmission name="Rev25_tran">
  <type>transmission_interface/SimpleTransmission</type>
  <joint name="Rev25">
    <hardwareInterface>PositionJointInterface</hardwareInterface>
  </joint>
  <actuator name="Rev25_actr">
    <hardwareInterface>PositionJointInterface</hardwareInterface>
    <mechanicalReduction>1</mechanicalReduction>
  </actuator>
</transmission>
<joint name="Rev26" type="continuous">
  <origin rpy="0 0 0" xyz="-0.031368 0.005131 0.003"/>
  <parent link="leg_7_motor_1"/>
  <child link="leg_7_coxa_1"/>
  <axis xyz="-0.0 0.0 -0.01"/>
</joint>
<transmission name="Rev26_tran">
  <type>transmission_interface/SimpleTransmission</type>
  <joint name="Rev26">
    <hardwareInterface>PositionJointInterface</hardwareInterface>
  </joint>
  <actuator name="Rev26_actr">
    <hardwareInterface>PositionJointInterface</hardwareInterface>
    <mechanicalReduction>1</mechanicalReduction>
  </actuator>
</transmission>
<joint name="Rev27" type="continuous">
  <origin rpy="0 0 0" xyz="-0.031368 -0.005131 0.003"/>
  <parent link="leg_6_motor_1"/>
  <child link="leg_6_coxa_1"/>
  <axis xyz="0.0 0.0 -0.01"/>
</joint>
<transmission name="Rev27_tran">
  <type>transmission_interface/SimpleTransmission</type>
  <joint name="Rev27">
    <hardwareInterface>PositionJointInterface</hardwareInterface>
  </joint>
  <actuator name="Rev27_actr">
    <hardwareInterface>PositionJointInterface</hardwareInterface>
    <mechanicalReduction>1</mechanicalReduction>
  </actuator>
</transmission>
<joint name="Rev28" type="continuous">
  <origin rpy="0 0 0" xyz="-0.028637 0.013789 0.003"/>
  <parent link="leg_5_motor_1"/>
  <child link="leg_5_coxa_1"/>
  <axis xyz="-0.0 0.0 -0.01"/>
</joint>
<transmission name="Rev28_tran">
  <type>transmission_interface/SimpleTransmission</type>
  <joint name="Rev28">
    <hardwareInterface>PositionJointInterface</hardwareInterface>
  </joint>
  <actuator name="Rev28_actr">
    <hardwareInterface>PositionJointInterface</hardwareInterface>
    <mechanicalReduction>1</mechanicalReduction>
  </actuator>
</transmission>
<joint name="Rev29" type="continuous">
  <origin rpy="0 0 0" xyz="0.028637 0.013789 0.003"/>
  <parent link="leg_4_motor_1"/>
  <child link="leg_4_coxa_1"/>
  <axis xyz="-0.0 0.0 -0.01"/>
</joint>
<transmission name="Rev29_tran">
  <type>transmission_interface/SimpleTransmission</type>
  <joint name="Rev29">
    <hardwareInterface>PositionJointInterface</hardwareInterface>
  </joint>
  <actuator name="Rev29_actr">
    <hardwareInterface>PositionJointInterface</hardwareInterface>
    <mechanicalReduction>1</mechanicalReduction>
  </actuator>
</transmission>
<joint name="Rev30" type="continuous">
  <origin rpy="0 0 0" xyz="0.031368 -0.005131 0.003"/>
  <parent link="leg_3_motor_1"/>
  <child link="leg_3_coxa_1"/>
  <axis xyz="-0.0 0.0 -0.01"/>
</joint>
<transmission name="Rev30_tran">
  <type>transmission_interface/SimpleTransmission</type>
  <joint name="Rev30">
    <hardwareInterface>PositionJointInterface</hardwareInterface>
  </joint>
  <actuator name="Rev30_actr">
    <hardwareInterface>PositionJointInterface</hardwareInterface>
    <mechanicalReduction>1</mechanicalReduction>
  </actuator>
</transmission>
<joint name="Rev31" type="continuous">
  <origin rpy="0 0 0" xyz="0.031368 0.005131 0.003"/>
  <parent link="leg_2_motor_1"/>
  <child link="leg_2_coxa_1"/>
  <axis xyz="-0.0 0.0 -0.01"/>
</joint>
<transmission name="Rev31_tran">
  <type>transmission_interface/SimpleTransmission</type>
  <joint name="Rev31">
    <hardwareInterface>PositionJointInterface</hardwareInterface>
  </joint>
  <actuator name="Rev31_actr">
    <hardwareInterface>PositionJointInterface</hardwareInterface>
    <mechanicalReduction>1</mechanicalReduction>
  </actuator>
</transmission>
<joint name="Rev32" type="continuous">
  <origin rpy="0 0 0" xyz="-0.033609 -0.062601 -0.0205"/>
  <parent link="leg_8_coxa_1"/>
  <child link="leg_8_motor__1__1"/>
  <axis xyz="-0.007071 0.007071 -0.0"/>
</joint>
<transmission name="Rev32_tran">
  <type>transmission_interface/SimpleTransmission</type>
  <joint name="Rev32">
    <hardwareInterface>PositionJointInterface</hardwareInterface>
  </joint>
  <actuator name="Rev32_actr">
    <hardwareInterface>PositionJointInterface</hardwareInterface>
    <mechanicalReduction>1</mechanicalReduction>
  </actuator>
</transmission>
<joint name="Rev33" type="continuous">
  <origin rpy="0 0 0" xyz="-0.063437 -0.032002 -0.0205"/>
  <parent link="leg_7_coxa_1"/>
  <child link="leg_7_motor__1__1"/>
  <axis xyz="-0.001736 0.009848 -0.0"/>
</joint>
<transmission name="Rev33_tran">
  <type>transmission_interface/SimpleTransmission</type>
  <joint name="Rev33">
    <hardwareInterface>PositionJointInterface</hardwareInterface>
  </joint>
  <actuator name="Rev33_actr">
    <hardwareInterface>PositionJointInterface</hardwareInterface>
    <mechanicalReduction>1</mechanicalReduction>
  </actuator>
</transmission>
<joint name="Rev34" type="continuous">
  <origin rpy="0 0 0" xyz="-0.070557 -0.008375 -0.0205"/>
  <parent link="leg_6_coxa_1"/>
  <child link="leg_6_motor__1__1"/>
  <axis xyz="0.001736 0.009848 -0.0"/>
</joint>
<transmission name="Rev34_tran">
  <type>transmission_interface/SimpleTransmission</type>
  <joint name="Rev34">
    <hardwareInterface>PositionJointInterface</hardwareInterface>
  </joint>
  <actuator name="Rev34_actr">
    <hardwareInterface>PositionJointInterface</hardwareInterface>
    <mechanicalReduction>1</mechanicalReduction>
  </actuator>
</transmission>
<joint name="Rev35" type="continuous">
  <origin rpy="0 0 0" xyz="-0.062601 0.033609 -0.0205"/>
  <parent link="leg_5_coxa_1"/>
  <child link="leg_5_motor__1__1"/>
  <axis xyz="0.007071 0.007071 -0.0"/>
</joint>
<transmission name="Rev35_tran">
  <type>transmission_interface/SimpleTransmission</type>
  <joint name="Rev35">
    <hardwareInterface>PositionJointInterface</hardwareInterface>
  </joint>
  <actuator name="Rev35_actr">
    <hardwareInterface>PositionJointInterface</hardwareInterface>
    <mechanicalReduction>1</mechanicalReduction>
  </actuator>
</transmission>
<joint name="Rev36" type="continuous">
  <origin rpy="0 0 0" xyz="0.03361 -0.0626 -0.0205"/>
  <parent link="leg_1_coxa_1"/>
  <child link="leg_1_motor__1__1"/>
  <axis xyz="-0.007071 -0.007071 -0.0"/>
</joint>
<transmission name="Rev36_tran">
  <type>transmission_interface/SimpleTransmission</type>
  <joint name="Rev36">
    <hardwareInterface>PositionJointInterface</hardwareInterface>
  </joint>
  <actuator name="Rev36_actr">
    <hardwareInterface>PositionJointInterface</hardwareInterface>
    <mechanicalReduction>1</mechanicalReduction>
  </actuator>
</transmission>
<joint name="Rev37" type="continuous">
  <origin rpy="0 0 0" xyz="0.063437 -0.032002 -0.0205"/>
  <parent link="leg_2_coxa_1"/>
  <child link="leg_2_motor__1__1"/>
  <axis xyz="-0.001736 -0.009848 -0.0"/>
</joint>
<transmission name="Rev37_tran">
  <type>transmission_interface/SimpleTransmission</type>
  <joint name="Rev37">
    <hardwareInterface>PositionJointInterface</hardwareInterface>
  </joint>
  <actuator name="Rev37_actr">
    <hardwareInterface>PositionJointInterface</hardwareInterface>
    <mechanicalReduction>1</mechanicalReduction>
  </actuator>
</transmission>
<joint name="Rev38" type="continuous">
  <origin rpy="0 0 0" xyz="0.070557 -0.008375 -0.0205"/>
  <parent link="leg_3_coxa_1"/>
  <child link="leg_3_motor__1__1"/>
  <axis xyz="0.001736 -0.009848 -0.0"/>
</joint>
<transmission name="Rev38_tran">
  <type>transmission_interface/SimpleTransmission</type>
  <joint name="Rev38">
    <hardwareInterface>PositionJointInterface</hardwareInterface>
  </joint>
  <actuator name="Rev38_actr">
    <hardwareInterface>PositionJointInterface</hardwareInterface>
    <mechanicalReduction>1</mechanicalReduction>
  </actuator>
</transmission>
<joint name="Rev39" type="continuous">
  <origin rpy="0 0 0" xyz="0.062601 0.033609 -0.0205"/>
  <parent link="leg_4_coxa_1"/>
  <child link="leg_4_motor__1__1"/>
  <axis xyz="0.007071 -0.007071 -0.0"/>
</joint>
<transmission name="Rev39_tran">
  <type>transmission_interface/SimpleTransmission</type>
  <joint name="Rev39">
    <hardwareInterface>PositionJointInterface</hardwareInterface>
  </joint>
  <actuator name="Rev39_actr">
    <hardwareInterface>PositionJointInterface</hardwareInterface>
    <mechanicalReduction>1</mechanicalReduction>
  </actuator>
</transmission>
<joint name="Rigid40" type="fixed">
  <origin rpy="0 0 0" xyz="0.050204 0.003535 0.0105"/>
  <parent link="leg_1_motor__1__1"/>
  <child link="leg_1_femur_1"/>
</joint>
<transmission name="Rigid40_tran">
  <type>transmission_interface/SimpleTransmission</type>
  <joint name="Rigid40">
    <hardwareInterface>PositionJointInterface</hardwareInterface>
  </joint>
  <actuator name="Rigid40_actr">
    <hardwareInterface>PositionJointInterface</hardwareInterface>
    <mechanicalReduction>1</mechanicalReduction>
  </actuator>
</transmission>
<joint name="Rigid41" type="fixed">
  <origin rpy="0 0 0" xyz="0.039098 0.031692 0.0105"/>
  <parent link="leg_2_motor__1__1"/>
  <child link="leg_2_femur_1"/>
</joint>
<transmission name="Rigid41_tran">
  <type>transmission_interface/SimpleTransmission</type>
  <joint name="Rigid41">
    <hardwareInterface>PositionJointInterface</hardwareInterface>
  </joint>
  <actuator name="Rigid41_actr">
    <hardwareInterface>PositionJointInterface</hardwareInterface>
    <mechanicalReduction>1</mechanicalReduction>
  </actuator>
</transmission>
<joint name="Rigid42" type="fixed">
  <origin rpy="0 0 0" xyz="0.0259 0.043153 0.0105"/>
  <parent link="leg_3_motor__1__1"/>
  <child link="leg_3_femur_1"/>
</joint>
<transmission name="Rigid42_tran">
  <type>transmission_interface/SimpleTransmission</type>
  <joint name="Rigid42">
    <hardwareInterface>PositionJointInterface</hardwareInterface>
  </joint>
  <actuator name="Rigid42_actr">
    <hardwareInterface>PositionJointInterface</hardwareInterface>
    <mechanicalReduction>1</mechanicalReduction>
  </actuator>
</transmission>
<joint name="Rigid43" type="fixed">
  <origin rpy="0 0 0" xyz="-0.003535 0.050205 0.0105"/>
  <parent link="leg_4_motor__1__1"/>
  <child link="leg_4_femur_1"/>
</joint>
<transmission name="Rigid43_tran">
  <type>transmission_interface/SimpleTransmission</type>
  <joint name="Rigid43">
    <hardwareInterface>PositionJointInterface</hardwareInterface>
  </joint>
  <actuator name="Rigid43_actr">
    <hardwareInterface>PositionJointInterface</hardwareInterface>
    <mechanicalReduction>1</mechanicalReduction>
  </actuator>
</transmission>
<joint name="Rigid44" type="fixed">
  <origin rpy="0 0 0" xyz="-0.025456 -0.021213 0.0105"/>
  <parent link="leg_8_motor__1__1"/>
  <child link="leg_8_femur_1"/>
</joint>
<transmission name="Rigid44_tran">
  <type>transmission_interface/SimpleTransmission</type>
  <joint name="Rigid44">
    <hardwareInterface>PositionJointInterface</hardwareInterface>
  </joint>
  <actuator name="Rigid44_actr">
    <hardwareInterface>PositionJointInterface</hardwareInterface>
    <mechanicalReduction>1</mechanicalReduction>
  </actuator>
</transmission>
<joint name="Rigid46" type="fixed">
  <origin rpy="0 0 0" xyz="-0.031978 0.008685 0.0105"/>
  <parent link="leg_6_motor__1__1"/>
  <child link="leg_6_femur_1"/>
</joint>
<transmission name="Rigid46_tran">
  <type>transmission_interface/SimpleTransmission</type>
  <joint name="Rigid46">
    <hardwareInterface>PositionJointInterface</hardwareInterface>
  </joint>
  <actuator name="Rigid46_actr">
    <hardwareInterface>PositionJointInterface</hardwareInterface>
    <mechanicalReduction>1</mechanicalReduction>
  </actuator>
</transmission>
<joint name="Rigid47" type="fixed">
  <origin rpy="0 0 0" xyz="-0.021213 0.025456 0.0105"/>
  <parent link="leg_5_motor__1__1"/>
  <child link="leg_5_femur_1"/>
</joint>
<transmission name="Rigid47_tran">
  <type>transmission_interface/SimpleTransmission</type>
  <joint name="Rigid47">
    <hardwareInterface>PositionJointInterface</hardwareInterface>
  </joint>
  <actuator name="Rigid47_actr">
    <hardwareInterface>PositionJointInterface</hardwareInterface>
    <mechanicalReduction>1</mechanicalReduction>
  </actuator>
</transmission>
<joint name="Rev48" type="continuous">
  <origin rpy="0 0 0" xyz="0.037763 -0.090796 -0.010679"/>
  <parent link="leg_1_femur_1"/>
  <child link="leg_1_motor__2__1"/>
  <axis xyz="-0.007071 -0.007071 -0.0"/>
</joint>
<transmission name="Rev48_tran">
  <type>transmission_interface/SimpleTransmission</type>
  <joint name="Rev48">
    <hardwareInterface>PositionJointInterface</hardwareInterface>
  </joint>
  <actuator name="Rev48_actr">
    <hardwareInterface>PositionJointInterface</hardwareInterface>
    <mechanicalReduction>1</mechanicalReduction>
  </actuator>
</transmission>
<joint name="Rev49" type="continuous">
  <origin rpy="0 0 0" xyz="0.083012 -0.052716 -0.010679"/>
  <parent link="leg_2_femur_1"/>
  <child link="leg_2_motor__2__1"/>
  <axis xyz="-0.001736 -0.009848 -0.0"/>
</joint>
<transmission name="Rev49_tran">
  <type>transmission_interface/SimpleTransmission</type>
  <joint name="Rev49">
    <hardwareInterface>PositionJointInterface</hardwareInterface>
  </joint>
  <actuator name="Rev49_actr">
    <hardwareInterface>PositionJointInterface</hardwareInterface>
    <mechanicalReduction>1</mechanicalReduction>
  </actuator>
</transmission>
<joint name="Rev50" type="continuous">
  <origin rpy="0 0 0" xyz="0.096035 -0.021145 -0.010679"/>
  <parent link="leg_3_femur_1"/>
  <child link="leg_3_motor__2__1"/>
  <axis xyz="0.001736 -0.009848 -0.0"/>
</joint>
<transmission name="Rev50_tran">
  <type>transmission_interface/SimpleTransmission</type>
  <joint name="Rev50">
    <hardwareInterface>PositionJointInterface</hardwareInterface>
  </joint>
  <actuator name="Rev50_actr">
    <hardwareInterface>PositionJointInterface</hardwareInterface>
    <mechanicalReduction>1</mechanicalReduction>
  </actuator>
</transmission>
<joint name="Rev51" type="continuous">
  <origin rpy="0 0 0" xyz="0.090795 0.037763 -0.010679"/>
  <parent link="leg_4_femur_1"/>
  <child link="leg_4_motor__2__1"/>
  <axis xyz="0.007071 -0.007071 -0.0"/>
</joint>
<transmission name="Rev51_tran">
  <type>transmission_interface/SimpleTransmission</type>
  <joint name="Rev51">
    <hardwareInterface>PositionJointInterface</hardwareInterface>
  </joint>
  <actuator name="Rev51_actr">
    <hardwareInterface>PositionJointInterface</hardwareInterface>
    <mechanicalReduction>1</mechanicalReduction>
  </actuator>
</transmission>
<joint name="Rev52" type="continuous">
  <origin rpy="0 0 0" xyz="-0.066755 0.061805 -0.010679"/>
  <parent link="leg_5_femur_1"/>
  <child link="leg_5_motor__2__1"/>
  <axis xyz="0.007071 0.007071 -0.0"/>
</joint>
<transmission name="Rev52_tran">
  <type>transmission_interface/SimpleTransmission</type>
  <joint name="Rev52">
    <hardwareInterface>PositionJointInterface</hardwareInterface>
  </joint>
  <actuator name="Rev52_actr">
    <hardwareInterface>PositionJointInterface</hardwareInterface>
    <mechanicalReduction>1</mechanicalReduction>
  </actuator>
</transmission>
<joint name="Rev53" type="continuous">
  <origin rpy="0 0 0" xyz="-0.090131 0.012339 -0.010679"/>
  <parent link="leg_6_femur_1"/>
  <child link="leg_6_motor__2__1"/>
  <axis xyz="0.001736 0.009848 -0.0"/>
</joint>
<transmission name="Rev53_tran">
  <type>transmission_interface/SimpleTransmission</type>
  <joint name="Rev53">
    <hardwareInterface>PositionJointInterface</hardwareInterface>
  </joint>
  <actuator name="Rev53_actr">
    <hardwareInterface>PositionJointInterface</hardwareInterface>
    <mechanicalReduction>1</mechanicalReduction>
  </actuator>
</transmission>
<joint name="Rev54" type="continuous">
  <origin rpy="0 0 0" xyz="-0.088916 -0.019233 -0.010679"/>
  <parent link="leg_7_femur_1"/>
  <child link="leg_7_motor__2__1"/>
  <axis xyz="-0.001736 0.009848 -0.0"/>
</joint>
<transmission name="Rev54_tran">
  <type>transmission_interface/SimpleTransmission</type>
  <joint name="Rev54">
    <hardwareInterface>PositionJointInterface</hardwareInterface>
  </joint>
  <actuator name="Rev54_actr">
    <hardwareInterface>PositionJointInterface</hardwareInterface>
    <mechanicalReduction>1</mechanicalReduction>
  </actuator>
</transmission>
<joint name="Rev55" type="continuous">
  <origin rpy="0 0 0" xyz="-0.061805 -0.066755 -0.010679"/>
  <parent link="leg_8_femur_1"/>
  <child link="leg_8_motor__2__1"/>
  <axis xyz="-0.007071 0.007071 -0.0"/>
</joint>
<transmission name="Rev55_tran">
  <type>transmission_interface/SimpleTransmission</type>
  <joint name="Rev55">
    <hardwareInterface>PositionJointInterface</hardwareInterface>
  </joint>
  <actuator name="Rev55_actr">
    <hardwareInterface>PositionJointInterface</hardwareInterface>
    <mechanicalReduction>1</mechanicalReduction>
  </actuator>
</transmission>
<joint name="Rigid57" type="fixed">
  <origin rpy="0 0 0" xyz="-0.025456 -0.021213 0.0105"/>
  <parent link="leg_8_motor__2__1"/>
  <child link="leg_8_tibia_1"/>
</joint>
<transmission name="Rigid57_tran">
  <type>transmission_interface/SimpleTransmission</type>
  <joint name="Rigid57">
    <hardwareInterface>PositionJointInterface</hardwareInterface>
  </joint>
  <actuator name="Rigid57_actr">
    <hardwareInterface>PositionJointInterface</hardwareInterface>
    <mechanicalReduction>1</mechanicalReduction>
  </actuator>
</transmission>
<joint name="Rigid59" type="fixed">
  <origin rpy="0 0 0" xyz="-0.031978 0.008684 0.0105"/>
  <parent link="leg_6_motor__2__1"/>
  <child link="leg_6_tibia_1"/>
</joint>
<transmission name="Rigid59_tran">
  <type>transmission_interface/SimpleTransmission</type>
  <joint name="Rigid59">
    <hardwareInterface>PositionJointInterface</hardwareInterface>
  </joint>
  <actuator name="Rigid59_actr">
    <hardwareInterface>PositionJointInterface</hardwareInterface>
    <mechanicalReduction>1</mechanicalReduction>
  </actuator>
</transmission>
<joint name="Rigid60" type="fixed">
  <origin rpy="0 0 0" xyz="-0.021213 0.025455 0.0105"/>
  <parent link="leg_5_motor__2__1"/>
  <child link="leg_5_tibia_1"/>
</joint>
<transmission name="Rigid60_tran">
  <type>transmission_interface/SimpleTransmission</type>
  <joint name="Rigid60">
    <hardwareInterface>PositionJointInterface</hardwareInterface>
  </joint>
  <actuator name="Rigid60_actr">
    <hardwareInterface>PositionJointInterface</hardwareInterface>
    <mechanicalReduction>1</mechanicalReduction>
  </actuator>
</transmission>
<joint name="Rigid61" type="fixed">
  <origin rpy="0 0 0" xyz="-0.003535 0.050204 0.0105"/>
  <parent link="leg_4_motor__2__1"/>
  <child link="leg_4_tibia_1"/>
</joint>
<transmission name="Rigid61_tran">
  <type>transmission_interface/SimpleTransmission</type>
  <joint name="Rigid61">
    <hardwareInterface>PositionJointInterface</hardwareInterface>
  </joint>
  <actuator name="Rigid61_actr">
    <hardwareInterface>PositionJointInterface</hardwareInterface>
    <mechanicalReduction>1</mechanicalReduction>
  </actuator>
</transmission>
<joint name="Rigid62" type="fixed">
  <origin rpy="0 0 0" xyz="0.025901 0.043154 0.0105"/>
  <parent link="leg_3_motor__2__1"/>
  <child link="leg_3_tibia_1"/>
</joint>
<transmission name="Rigid62_tran">
  <type>transmission_interface/SimpleTransmission</type>
  <joint name="Rigid62">
    <hardwareInterface>PositionJointInterface</hardwareInterface>
  </joint>
  <actuator name="Rigid62_actr">
    <hardwareInterface>PositionJointInterface</hardwareInterface>
    <mechanicalReduction>1</mechanicalReduction>
  </actuator>
</transmission>
<joint name="Rigid63" type="fixed">
  <origin rpy="0 0 0" xyz="0.039097 0.031693 0.0105"/>
  <parent link="leg_2_motor__2__1"/>
  <child link="leg_2_tibia_1"/>
</joint>
<transmission name="Rigid63_tran">
  <type>transmission_interface/SimpleTransmission</type>
  <joint name="Rigid63">
    <hardwareInterface>PositionJointInterface</hardwareInterface>
  </joint>
  <actuator name="Rigid63_actr">
    <hardwareInterface>PositionJointInterface</hardwareInterface>
    <mechanicalReduction>1</mechanicalReduction>
  </actuator>
</transmission>
<joint name="Rigid64" type="fixed">
  <origin rpy="0 0 0" xyz="0.050205 0.003536 0.0105"/>
  <parent link="leg_1_motor__2__1"/>
  <child link="leg_1_tibia_1"/>
</joint>
<transmission name="Rigid64_tran">
  <type>transmission_interface/SimpleTransmission</type>
  <joint name="Rigid64">
    <hardwareInterface>PositionJointInterface</hardwareInterface>
  </joint>
  <actuator name="Rigid64_actr">
    <hardwareInterface>PositionJointInterface</hardwareInterface>
    <mechanicalReduction>1</mechanicalReduction>
  </actuator>
</transmission>
<joint name="Rev65" type="continuous">
  <origin rpy="0 0 0" xyz="-0.0105 -0.03 0.003"/>
  <parent link="tail_motor_1"/>
  <child link="Component62_1"/>
  <axis xyz="-0.0 0.0 -0.01"/>
</joint>
<transmission name="Rev65_tran">
  <type>transmission_interface/SimpleTransmission</type>
  <joint name="Rev65">
    <hardwareInterface>PositionJointInterface</hardwareInterface>
  </joint>
  <actuator name="Rev65_actr">
    <hardwareInterface>PositionJointInterface</hardwareInterface>
    <mechanicalReduction>1</mechanicalReduction>
  </actuator>
</transmission>
<joint name="Rev66" type="continuous">
  <origin rpy="0 0 0" xyz="0.0105 0.03 0.003"/>
  <parent link="head_motor_pan_1"/>
  <child link="head_neck_1"/>
  <axis xyz="-0.0 0.0 -0.01"/>
</joint>
<transmission name="Rev66_tran">
  <type>transmission_interface/SimpleTransmission</type>
  <joint name="Rev66">
    <hardwareInterface>PositionJointInterface</hardwareInterface>
  </joint>
  <actuator name="Rev66_actr">
    <hardwareInterface>PositionJointInterface</hardwareInterface>
    <mechanicalReduction>1</mechanicalReduction>
  </actuator>
</transmission>
<joint name="Rigid67" type="fixed">
  <origin rpy="0 0 0" xyz="-0.03302 -0.002776 0.0105"/>
  <parent link="leg_7_motor__1__1"/>
  <child link="leg_7_femur_1"/>
</joint>
<transmission name="Rigid67_tran">
  <type>transmission_interface/SimpleTransmission</type>
  <joint name="Rigid67">
    <hardwareInterface>PositionJointInterface</hardwareInterface>
  </joint>
  <actuator name="Rigid67_actr">
    <hardwareInterface>PositionJointInterface</hardwareInterface>
    <mechanicalReduction>1</mechanicalReduction>
  </actuator>
</transmission>
<joint name="Rigid68" type="fixed">
  <origin rpy="0 0 0" xyz="-0.033019 -0.002776 0.0105"/>
  <parent link="leg_7_motor__2__1"/>
  <child link="leg_7_tibia_1"/>
</joint>
<transmission name="Rigid68_tran">
  <type>transmission_interface/SimpleTransmission</type>
  <joint name="Rigid68">
    <hardwareInterface>PositionJointInterface</hardwareInterface>
  </joint>
  <actuator name="Rigid68_actr">
    <hardwareInterface>PositionJointInterface</hardwareInterface>
    <mechanicalReduction>1</mechanicalReduction>
  </actuator>
</transmission>
<joint name="Rev69" type="continuous">
  <origin rpy="0 0 0" xyz="-0.025 0.045 -0.010622"/>
  <parent link="head_neck_1"/>
  <child link="head_link_1"/>
  <axis xyz="0.01 -0.0 0.0"/>
</joint>
<transmission name="Rev69_tran">
  <type>transmission_interface/SimpleTransmission</type>
  <joint name="Rev69">
    <hardwareInterface>PositionJointInterface</hardwareInterface>
  </joint>
  <actuator name="Rev69_actr">
    <hardwareInterface>PositionJointInterface</hardwareInterface>
    <mechanicalReduction>1</mechanicalReduction>
  </actuator>
</transmission>
<gazebo>
  <plugin filename="libgazebo_ros_control.so" name="control"/>
</gazebo>
</robot>
